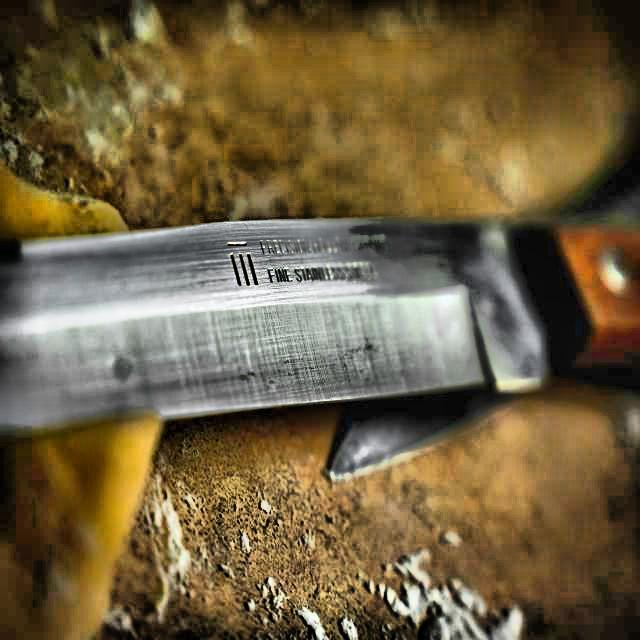knife: (0, 222, 637, 424)
